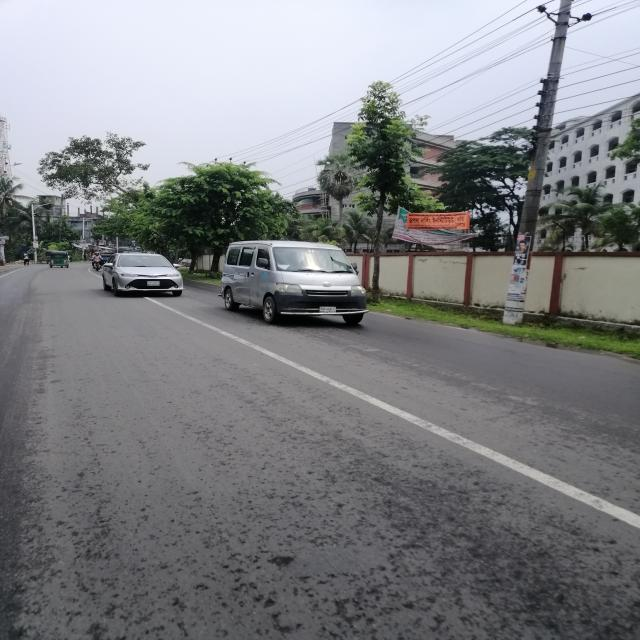Car: (221, 241, 374, 326), (97, 250, 194, 300)
